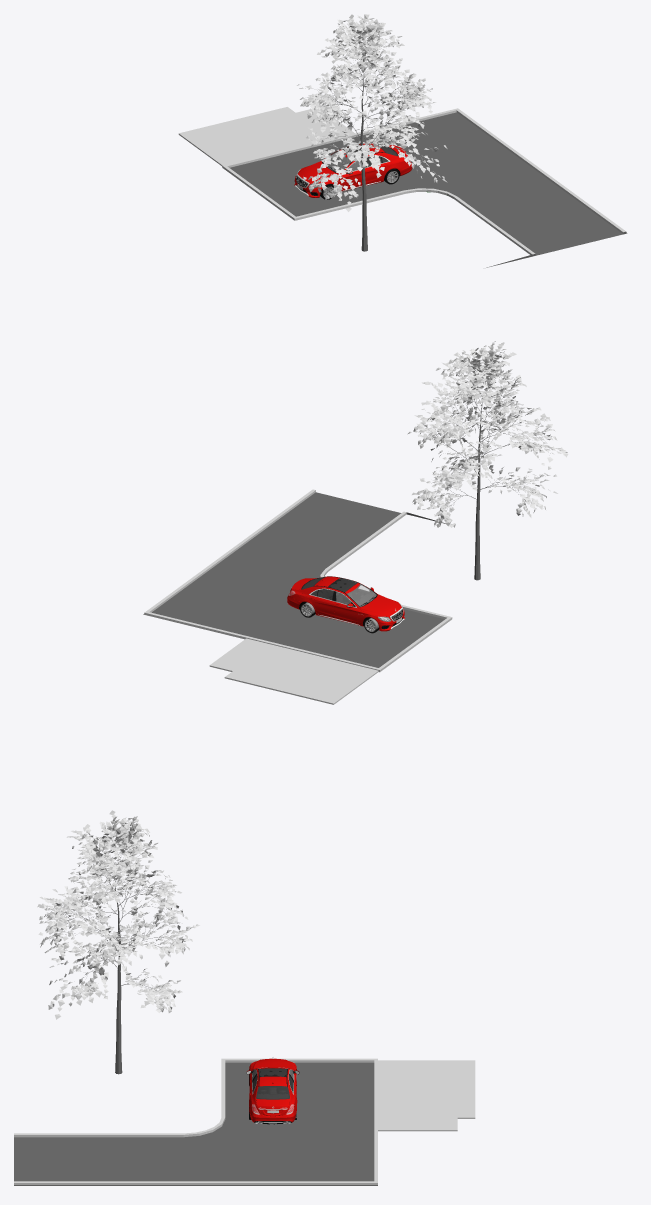
Rendered from Sitte_Option_3.glb.
3 renders of one model, top to bottom at view 1: azimuth 30°, elevation 25°; view 2: azimuth 150°, elevation 25°; view 3: azimuth 270°, elevation 25°, orthographic. The views are drawn at different scales.
Parts seen in each view (by area): view 1: Site_3, Sapling_Populus-tremuloides_A_summer.002, Benz; view 2: Site_3, Sapling_Populus-tremuloides_A_summer.002, Benz; view 3: Site_3, Sapling_Populus-tremuloides_A_summer.002, Benz.
Boxes of the visible parts, x1=… form: Site_3: x1=178, y1=107, x2=627, y2=267; Sapling_Populus-tremuloides_A_summer.002: x1=297, y1=14, x2=447, y2=251; Benz: x1=294, y1=143, x2=412, y2=199; Site_3: x1=143, y1=489, x2=452, y2=704; Sapling_Populus-tremuloides_A_summer.002: x1=407, y1=341, x2=568, y2=580; Benz: x1=287, y1=576, x2=404, y2=633; Site_3: x1=14, y1=1058, x2=475, y2=1185; Sapling_Populus-tremuloides_A_summer.002: x1=37, y1=810, x2=199, y2=1074; Benz: x1=246, y1=1057, x2=299, y2=1124.
Size of the model in its own units: 16.54 by 11.02 by 24.67.
